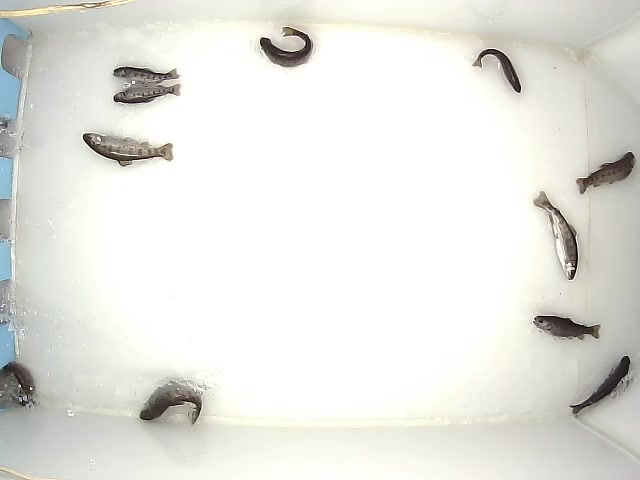fish: (532, 190, 579, 281), (568, 355, 631, 415), (81, 131, 174, 167), (138, 380, 203, 426), (575, 151, 637, 196), (258, 26, 314, 69), (471, 48, 522, 94), (531, 315, 602, 342), (112, 82, 182, 104), (112, 66, 181, 84)
